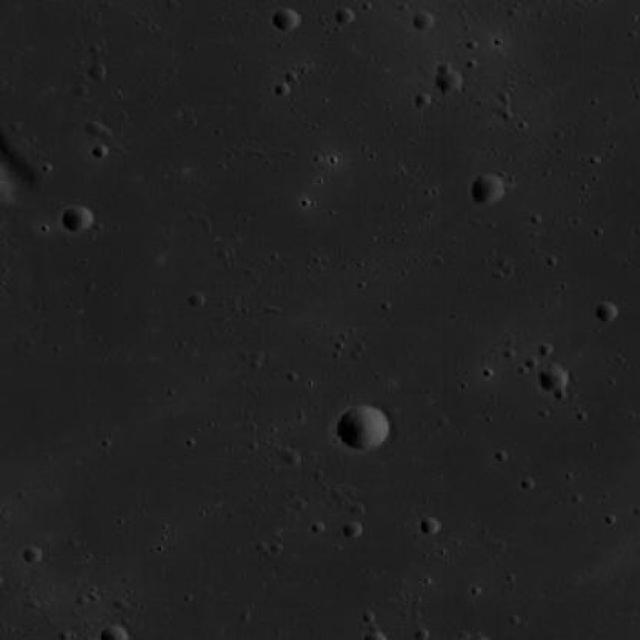crater: (337, 405, 392, 453), (472, 177, 506, 206), (538, 365, 570, 393), (62, 205, 93, 233), (274, 8, 302, 34), (436, 71, 464, 95), (596, 303, 619, 323), (412, 13, 434, 32), (282, 448, 302, 467), (421, 518, 441, 536), (336, 8, 356, 26), (89, 64, 108, 81), (343, 522, 363, 538), (24, 548, 44, 564), (85, 120, 104, 136), (414, 94, 432, 110)
